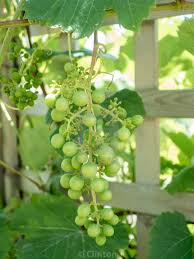grapes: (51, 64, 138, 242)
